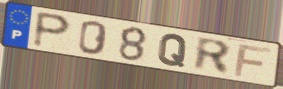0: (77, 20, 109, 56)
8: (117, 26, 150, 62)
F: (232, 43, 274, 78)
P: (31, 10, 74, 50)
Q: (156, 33, 190, 69)
R: (193, 35, 233, 77)
